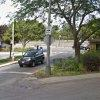Tree: (60, 2, 96, 60)
